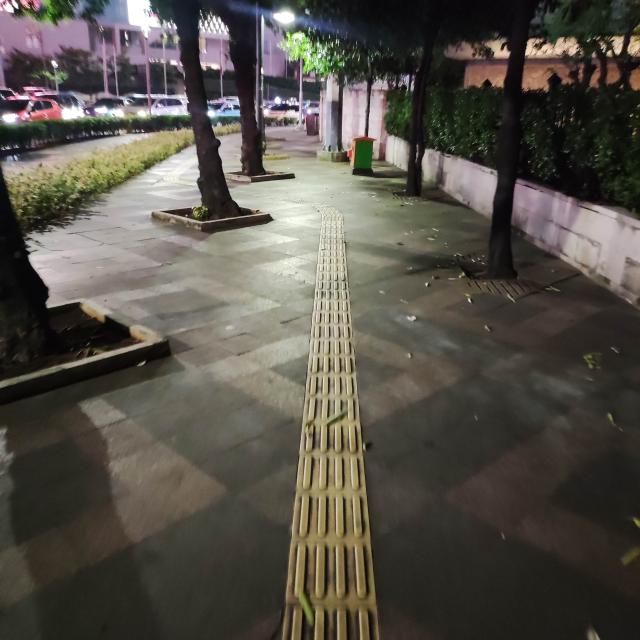lurus: (271, 214, 391, 640)
